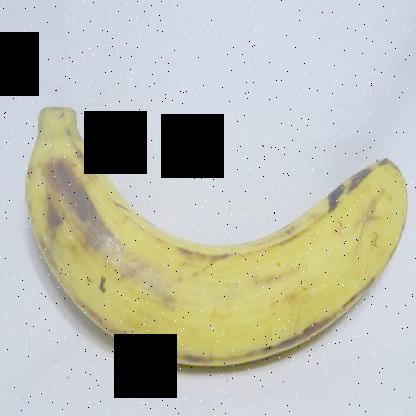overripe: (11, 100, 406, 378)
